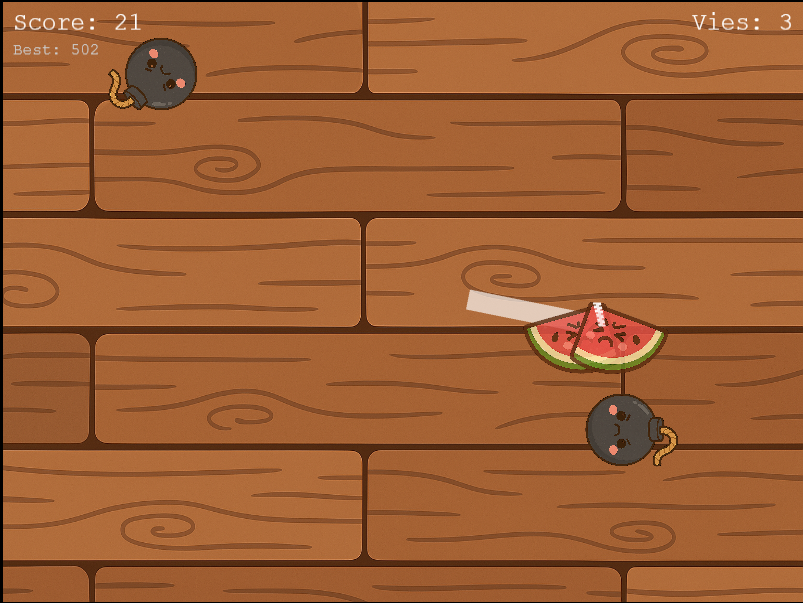bomb: (578, 388, 685, 474), (105, 37, 200, 118)
